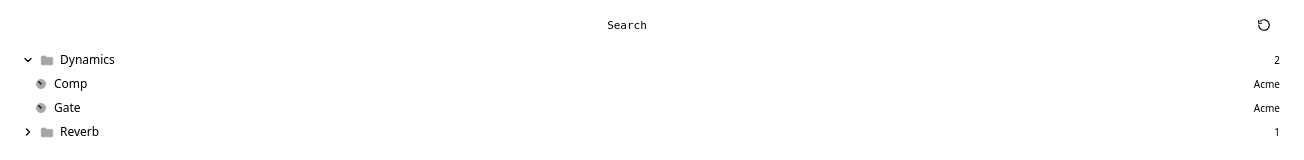
it: the Effects page › searches by vendor, opening the folders with a match
This screenshot has width=1304, height=160.
Type "tidewater" into the search field named "Search effects". click: (633, 26)
box: [24,16,1242,36]
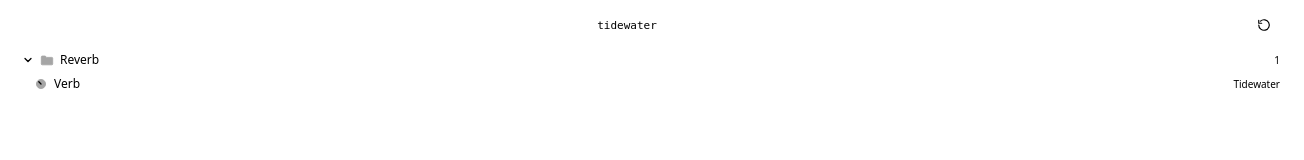
Expected: the text "Verb" is shown, [54,76,80,92]
Expected: the text "Tidewater" is shown, [1225,76,1280,92]
Expected: the list item "Dynamics" is gone
Replace the text in the search field named "Search effects" with "zzz". click: (633, 26)
box: [24,16,1242,36]
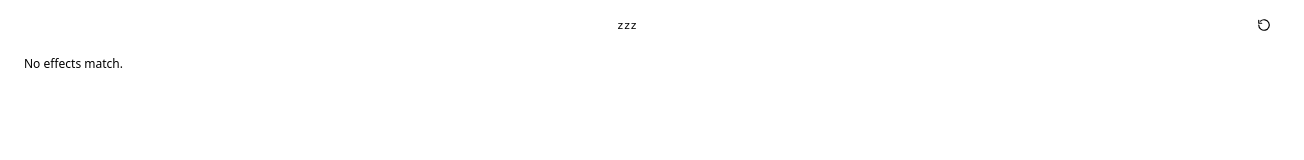
Expected: the text "No effects match." is shown, [24,55,123,72]
